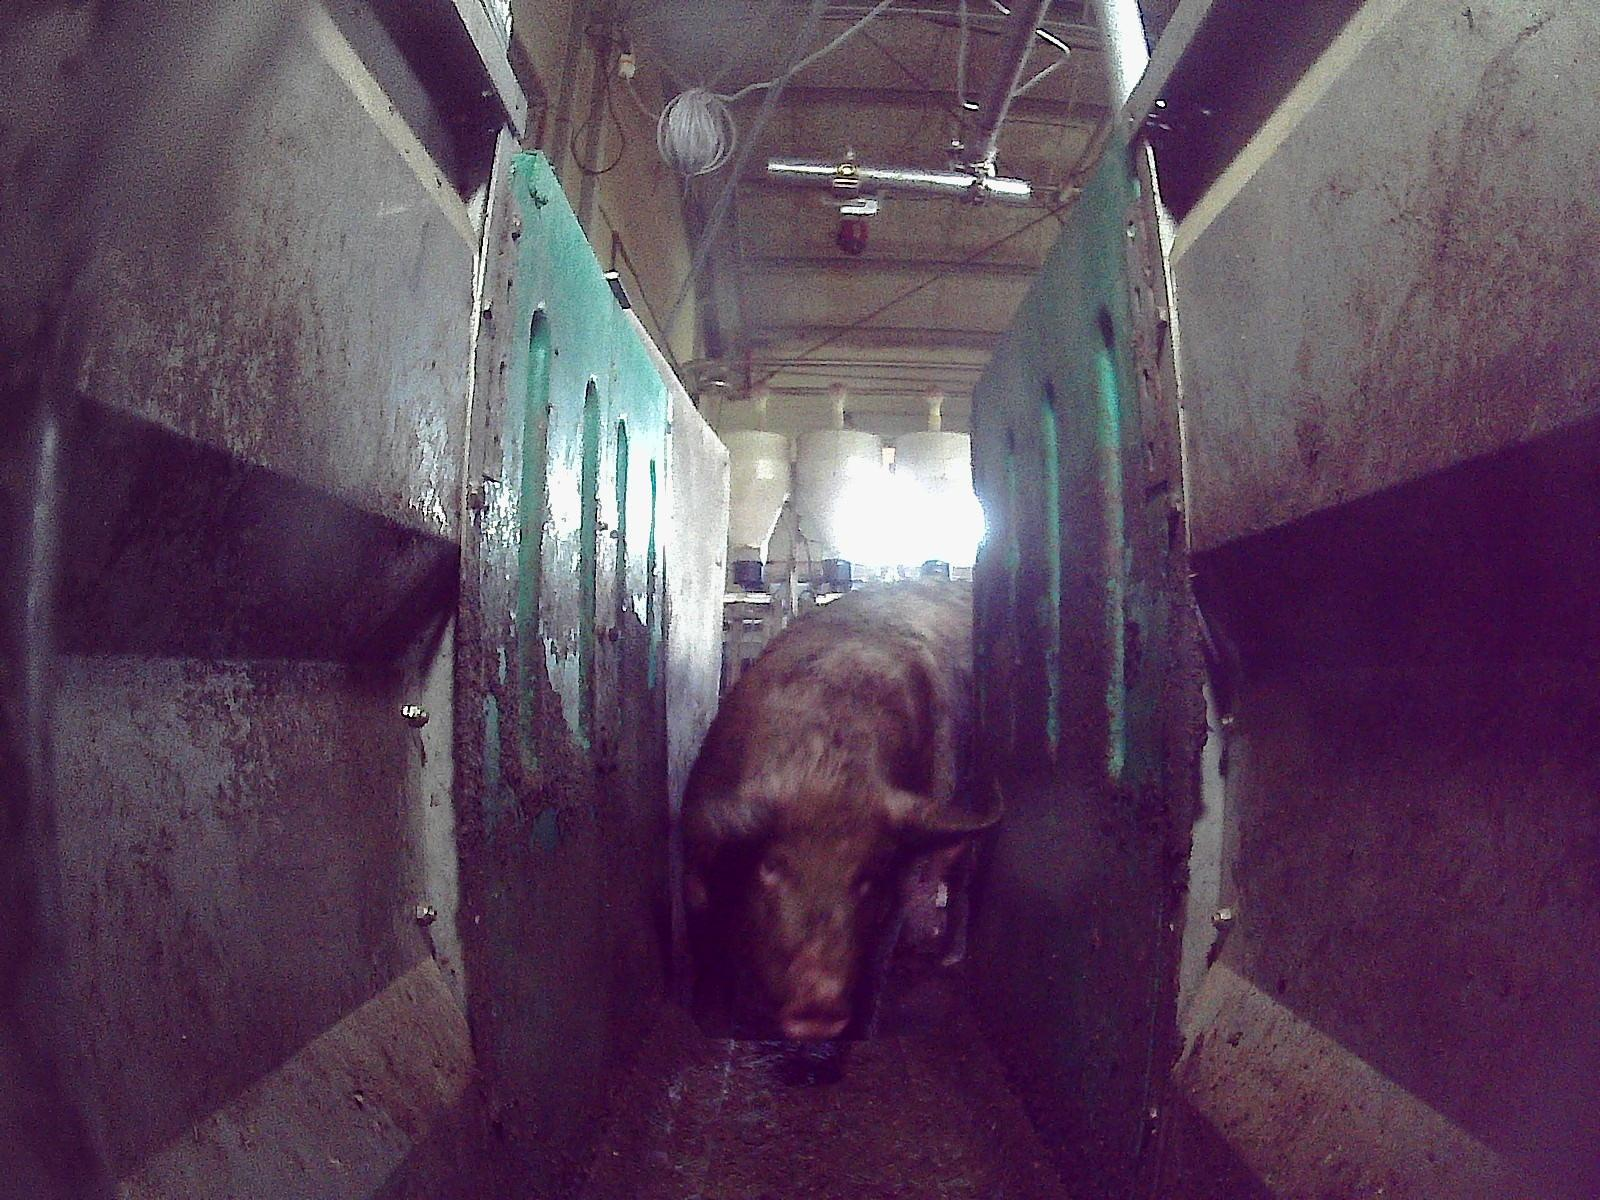Face: (734, 788, 896, 1041)
